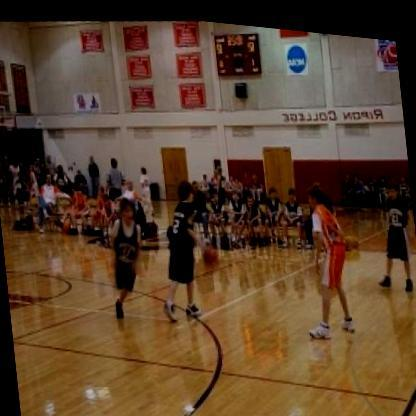basketball: (199, 239, 222, 263)
